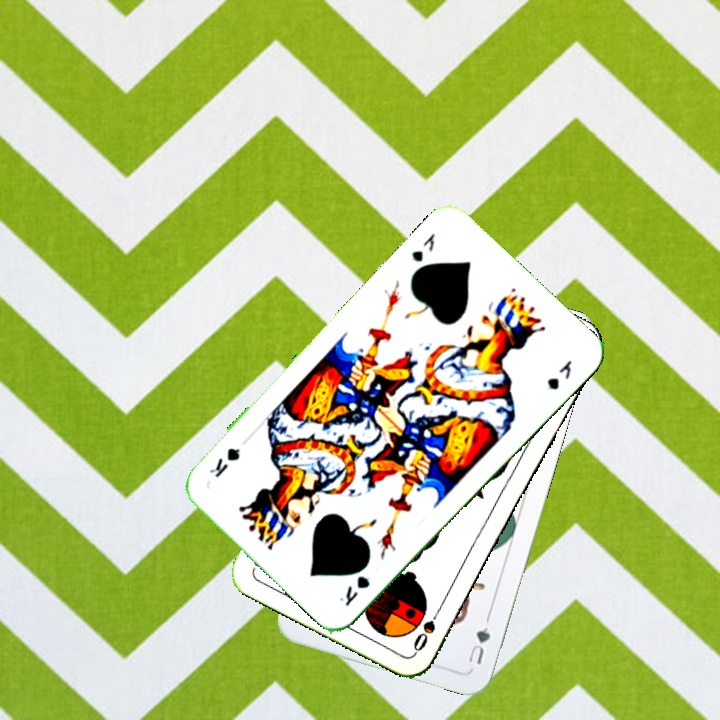GK: (335, 571, 373, 609), (407, 229, 438, 265)
GU: (464, 613, 493, 667)
SO: (409, 600, 446, 655)
